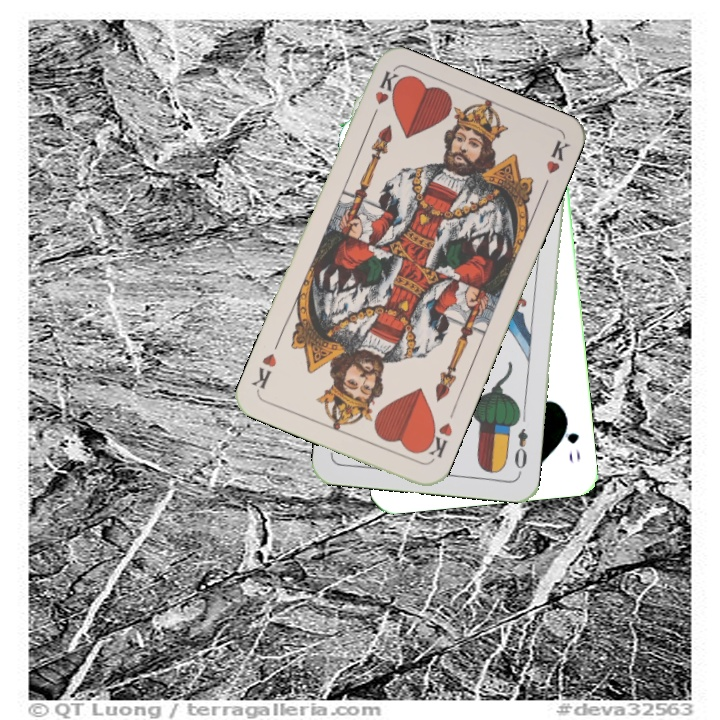EO: (510, 424, 531, 477)
GO: (558, 411, 583, 466)
HK: (366, 67, 401, 125), (419, 418, 455, 461)
